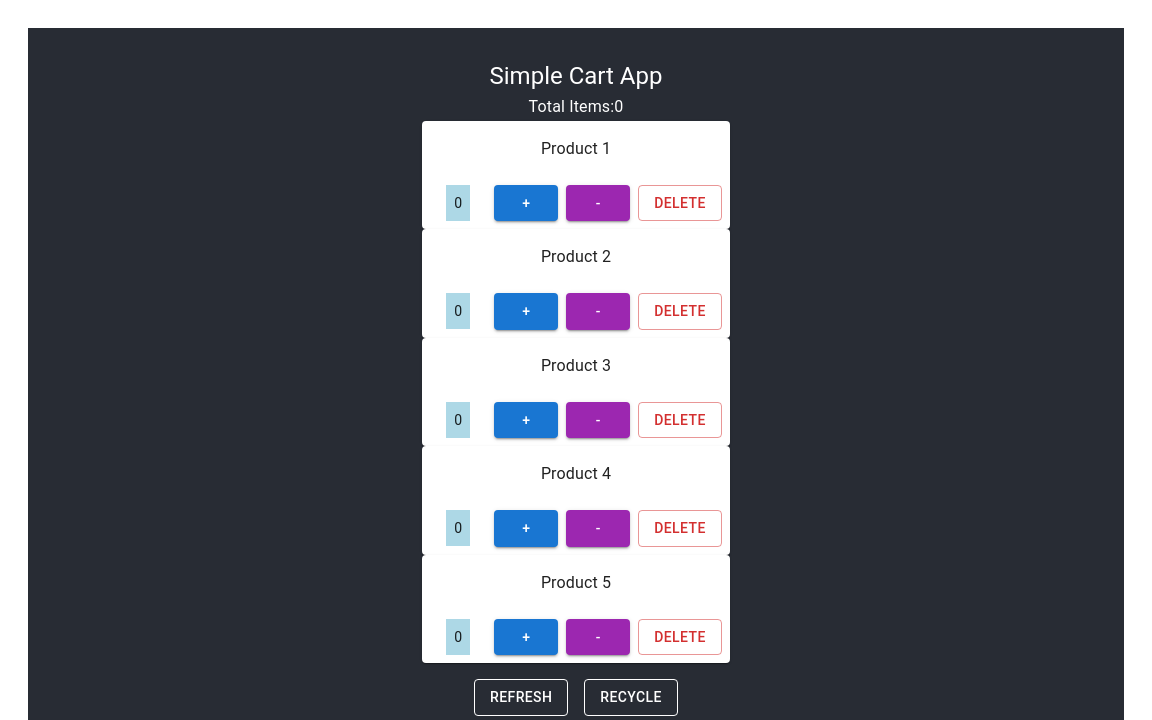
Scenario: Cart component › recycles the cart
Click the button with test id "recycle-btn" at (631, 697), box [584,679,678,716]
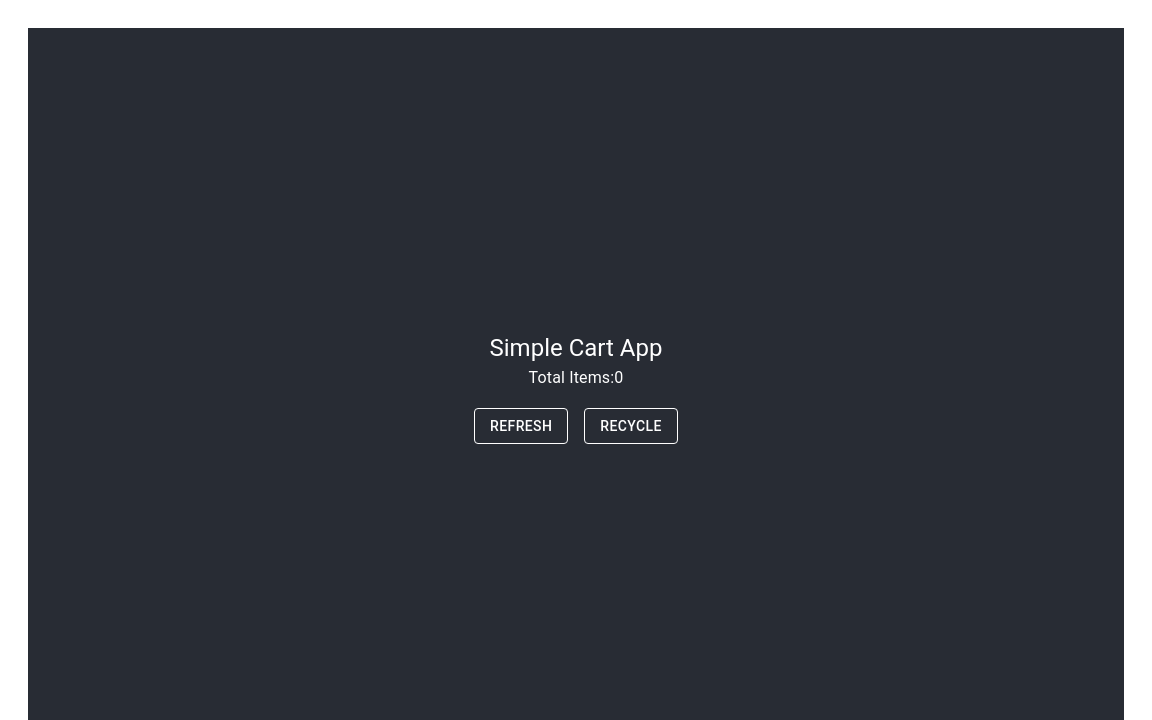
Result: the text "1" is gone
